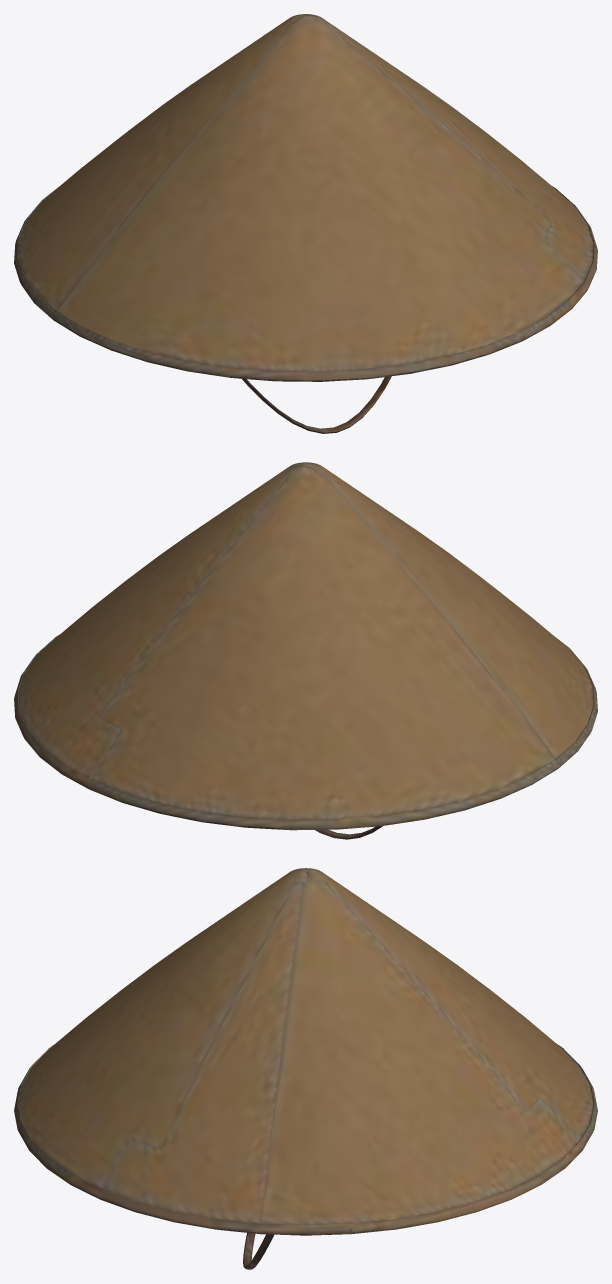
The model's file is asian_conical_hat.glb.
The picture shows the model from 3 angles, top to bottom: view 1: azimuth 30°, elevation 25°; view 2: azimuth 150°, elevation 25°; view 3: azimuth 270°, elevation 25°; orthographic projection.
Visible parts, largest first — view 1: Hut_0; view 2: Hut_0; view 3: Hut_0.
Boxes of the visible parts, x1,y1,x2,y2 form: Hut_0: (14, 14, 597, 433); Hut_0: (14, 462, 597, 839); Hut_0: (14, 868, 597, 1269).
Bounding box in the file's own units: 0.5545 × 0.412 × 0.5545.
Materials: 1 (1 with a texture image).
